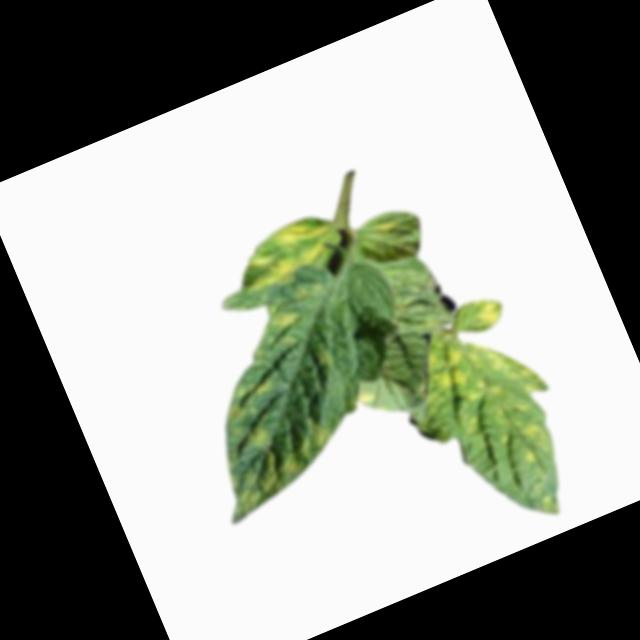Leaf_Mold: (397, 278, 593, 539), (200, 396, 353, 526), (234, 205, 357, 301), (214, 368, 285, 426), (258, 293, 311, 352)
